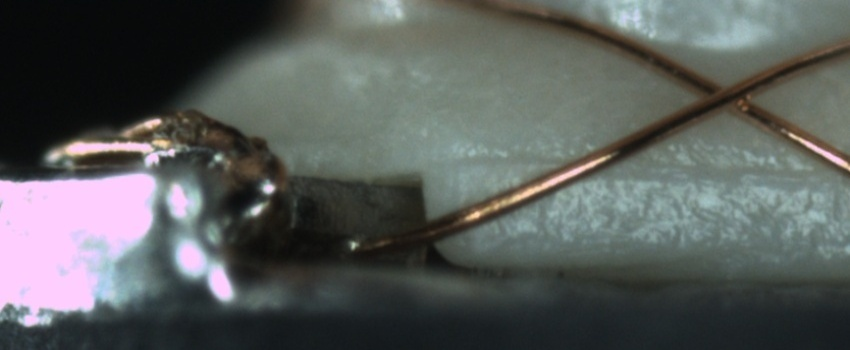CL: (681, 64, 776, 120)
DL: (445, 136, 849, 196)
TE: (41, 108, 225, 171)
